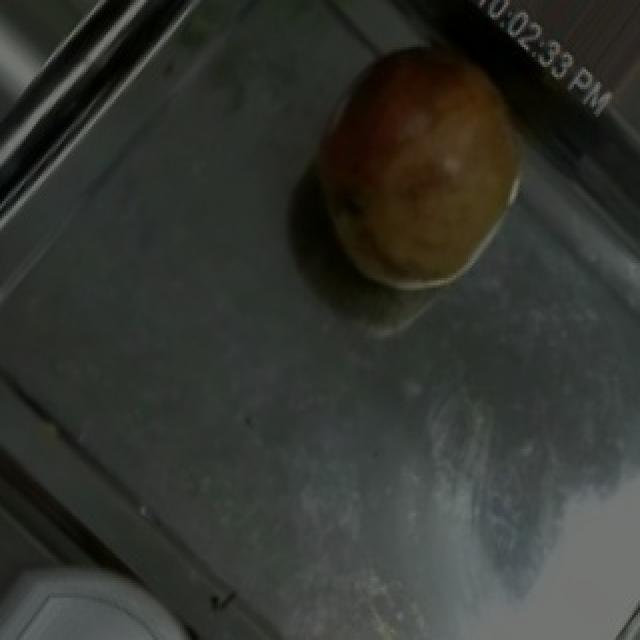fruit: (288, 8, 558, 312)
